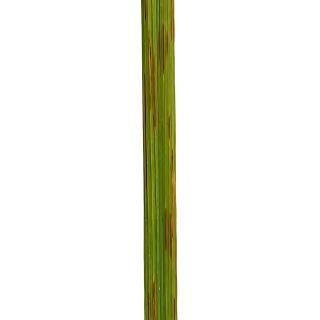Bercak-Cokelat-Sempit: (143, 25, 158, 125), (165, 148, 176, 254), (159, 22, 170, 72), (149, 277, 157, 317), (164, 114, 176, 140), (169, 1, 174, 37), (169, 295, 176, 320), (140, 2, 148, 21)
